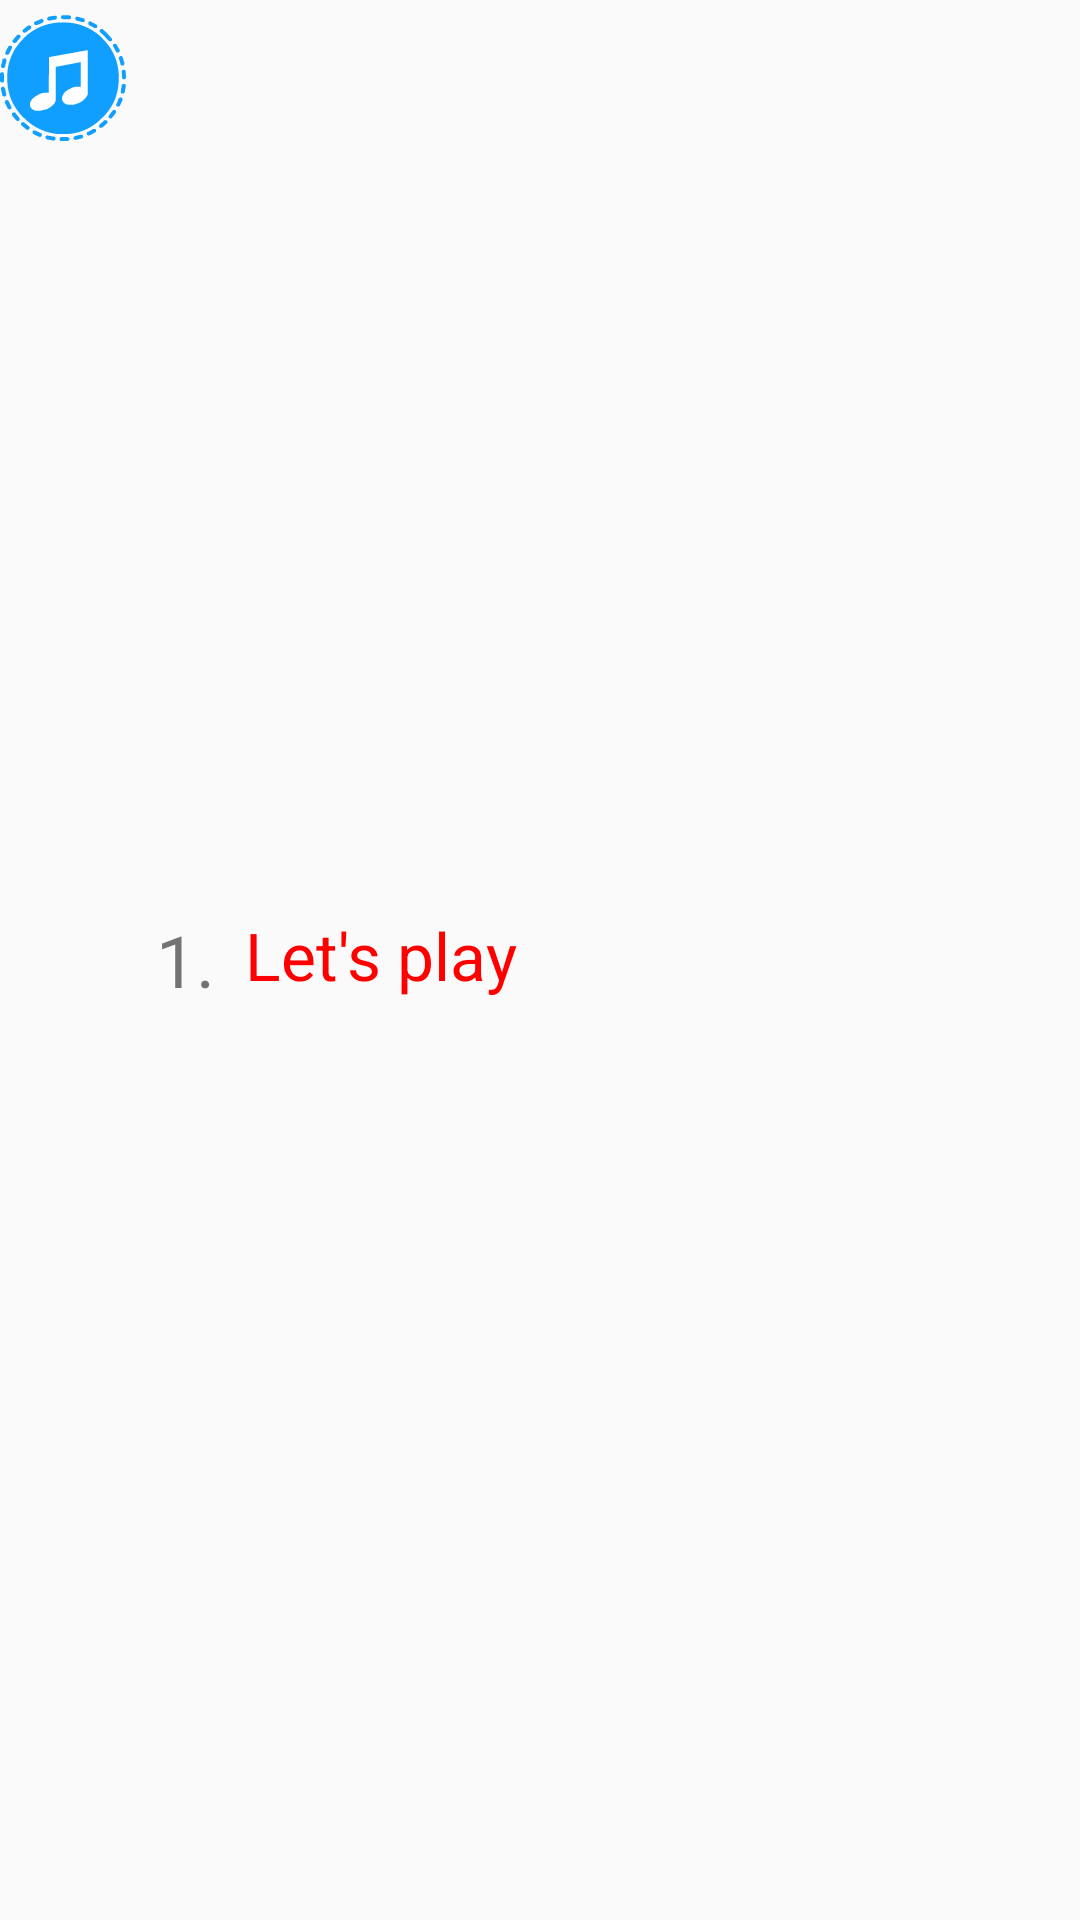

Where to tap for icons on this 1080*1920 app screen, as (x=x, y=y):
audio: (x=63, y=78)
